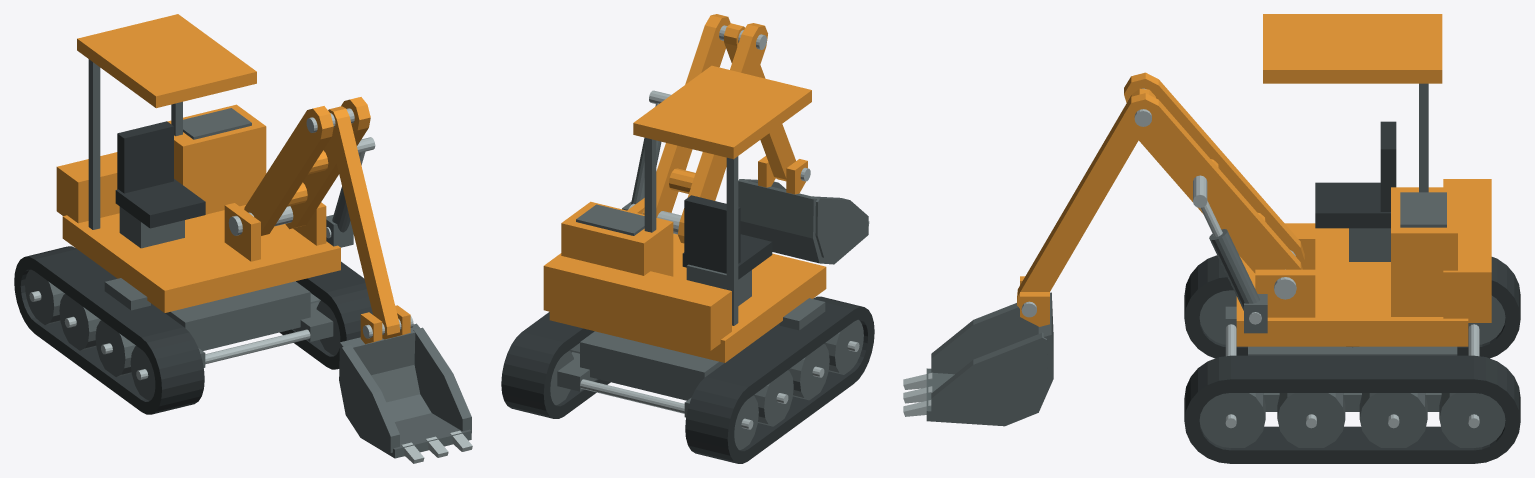
The picture shows the model from 3 angles, left to right: view 1: azimuth 30°, elevation 25°; view 2: azimuth 150°, elevation 25°; view 3: azimuth 270°, elevation 25°; orthographic projection. The views are drawn at different scales.
Visible parts, largest first — view 1: UpperDeck, TrackBelt_Left, CanopyRoof, EngineCover, Bucket_CurvedShell, Chassis_CrossFrame, Stick_Center, BoomCheek_Left, TrackBelt_Right, BucketSide_Left, SeatBack, BucketSide_Right (+19 smaller); view 2: TrackBelt_Left, Counterweight_Rear, CanopyRoof, UpperDeck, Chassis_CrossFrame, TrackBelt_Right, EngineCover, Bucket_CurvedShell, SeatBack, BoomCheek_Right, BoomCheek_Left, BucketSide_Left (+18 smaller); view 3: TrackBelt_Right, CanopyRoof, UpperDeck, BoomCheek_Right, BucketSide_Right, EngineCover, Stick_Center, Counterweight_Rear, TrackBelt_Left, BoomCheek_Left, BucketSide_Left, SeatCushion (+17 smaller).
Boxes of the visible parts, <box> form: UpperDeck: <box>62,205,340,312</box>; TrackBelt_Left: <box>14,246,204,414</box>; CanopyRoof: <box>77,14,256,108</box>; EngineCover: <box>167,104,266,214</box>; Bucket_CurvedShell: <box>339,323,471,458</box>; Chassis_CrossFrame: <box>165,281,310,350</box>; Stick_Center: <box>328,106,399,339</box>; BoomCheek_Left: <box>244,106,333,235</box>; TrackBelt_Right: <box>279,261,372,369</box>; BucketSide_Left: <box>339,345,399,452</box>; SeatBack: <box>117,121,173,193</box>; BucketSide_Right: <box>413,327,471,432</box>; TrackBelt_Left: <box>685,296,874,463</box>; Counterweight_Rear: <box>543,253,731,350</box>; CanopyRoof: <box>633,65,811,159</box>; UpperDeck: <box>549,233,826,362</box>; Chassis_CrossFrame: <box>580,331,724,400</box>; TrackBelt_Right: <box>501,312,610,418</box>; EngineCover: <box>561,201,673,276</box>; Bucket_CurvedShell: <box>738,180,868,264</box>; SeatBack: <box>684,195,740,268</box>; BoomCheek_Right: <box>642,14,730,217</box>; BoomCheek_Left: <box>677,23,767,243</box>; BucketSide_Left: <box>810,196,868,259</box>; TrackBelt_Right: <box>1184,355,1520,463</box>; CanopyRoof: <box>1263,14,1442,83</box>; UpperDeck: <box>1236,223,1468,346</box>; BoomCheek_Right: <box>1124,93,1302,273</box>; BucketSide_Right: <box>931,332,1047,422</box>; EngineCover: <box>1391,187,1457,316</box>; Stick_Center: <box>1017,88,1155,308</box>; Counterweight_Rear: <box>1443,179,1491,322</box>; TrackBelt_Left: <box>1184,255,1520,358</box>; BoomCheek_Left: <box>1124,72,1304,265</box>; BucketSide_Left: <box>931,303,1038,374</box>; SeatCushion: <box>1315,182,1390,228</box>.
Bounding box in the file's own units: 1.64 × 2.01 × 3.3.
